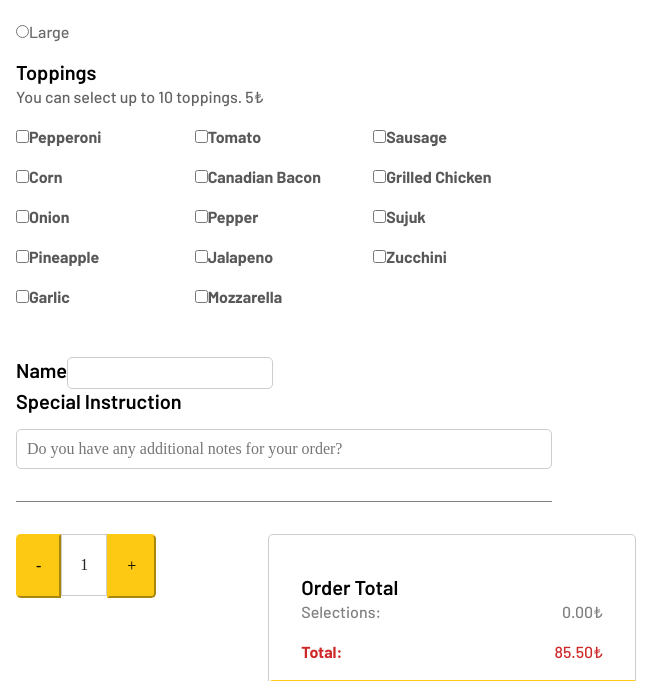
Scenario: PizzaForm E2E Tests › should display error for invalid name input
(page scrolled)
Type "A" into the field with id "name-input" at {"x": 170, "y": 373}, box [67,357,273,389]
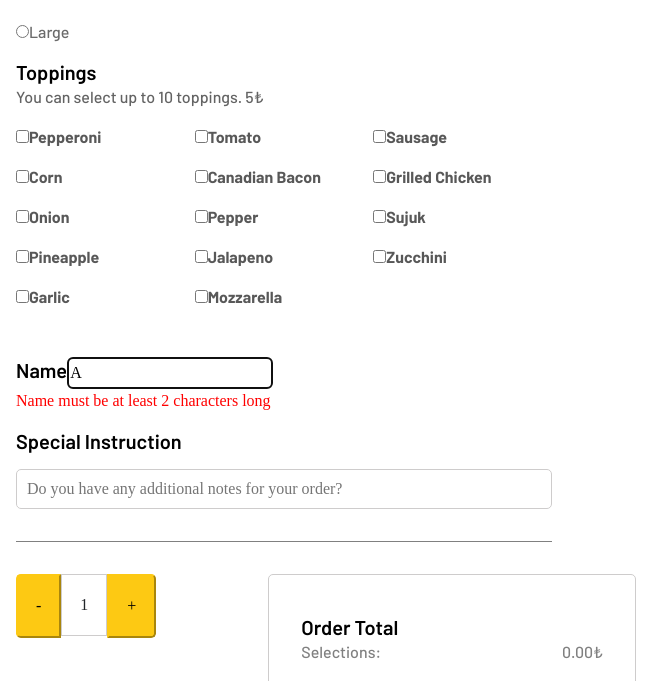
Expected: the text "Name must be at least 2 characters long" is shown, [16,392,271,409]
